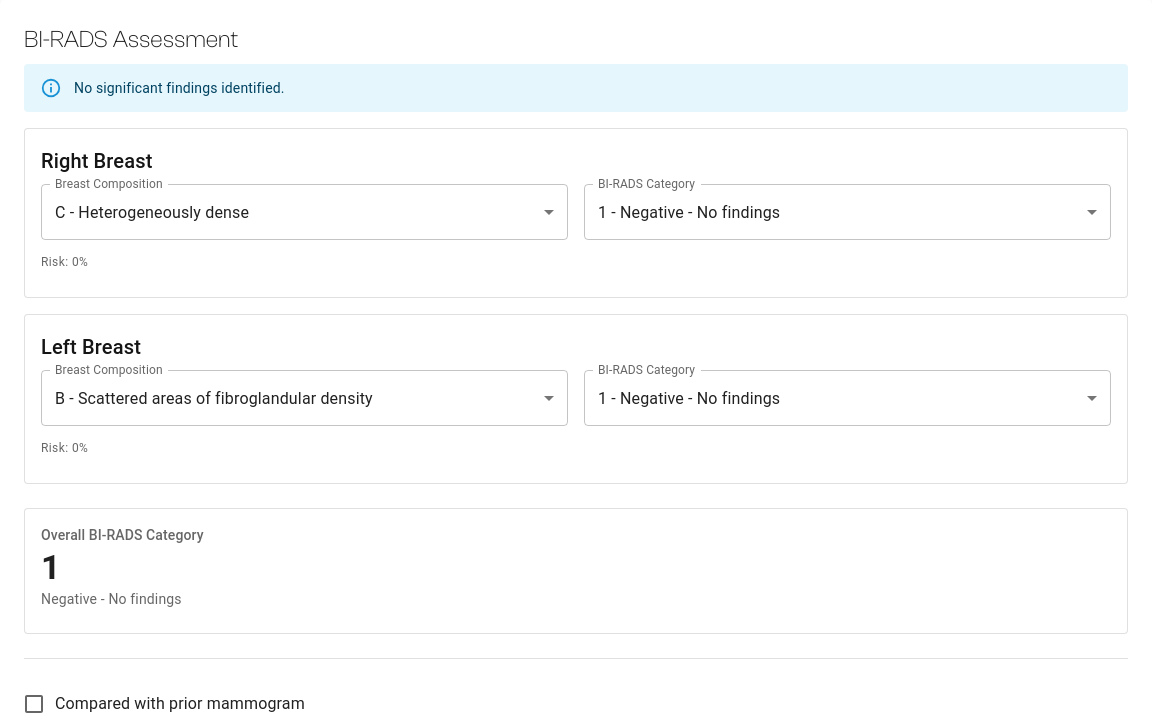
Scenario: BiRadsAssessmentStep Composition Selection › should allow selecting right breast composition and display all options
Press the mouse on the dropdown named "Breast Composition": [152, 212] box x1=55 y1=203 x2=249 y2=222
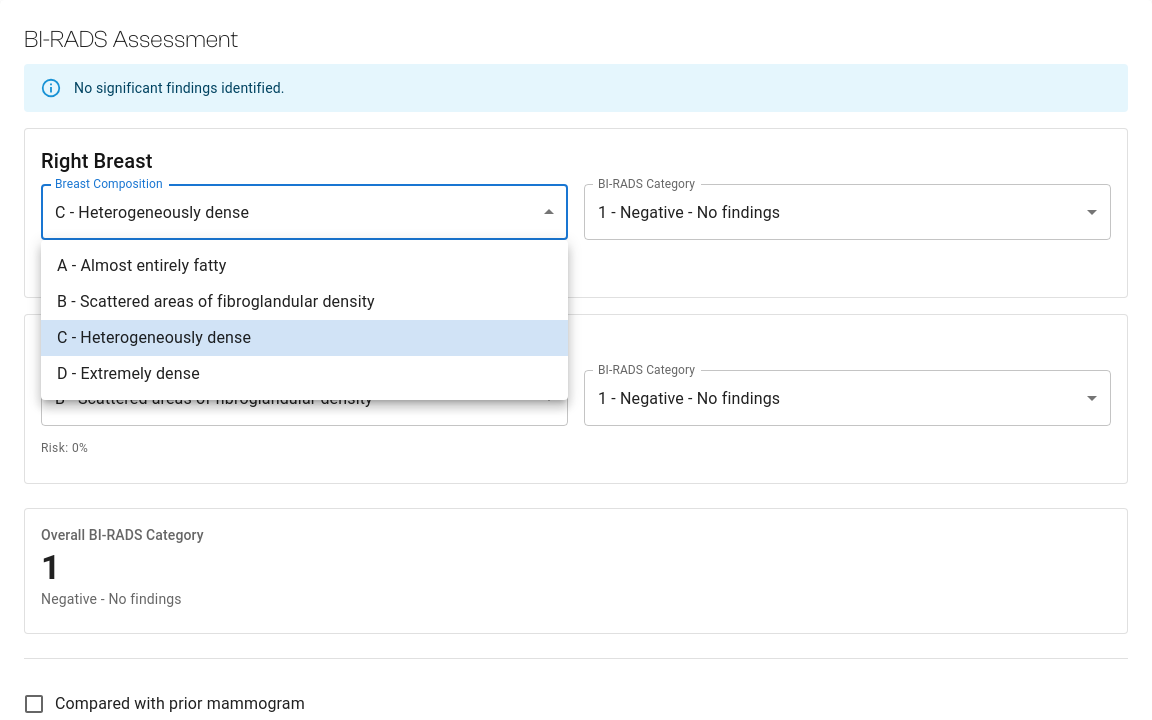
Expected: the option "A - Almost entirely fatty" is shown, x1=57 y1=256 x2=226 y2=275
Expected: the option "B - Scattered areas of fibroglandular density" is shown, x1=57 y1=292 x2=375 y2=311
Expected: the option "C - Heterogeneously dense" is shown, x1=41 y1=320 x2=568 y2=356
